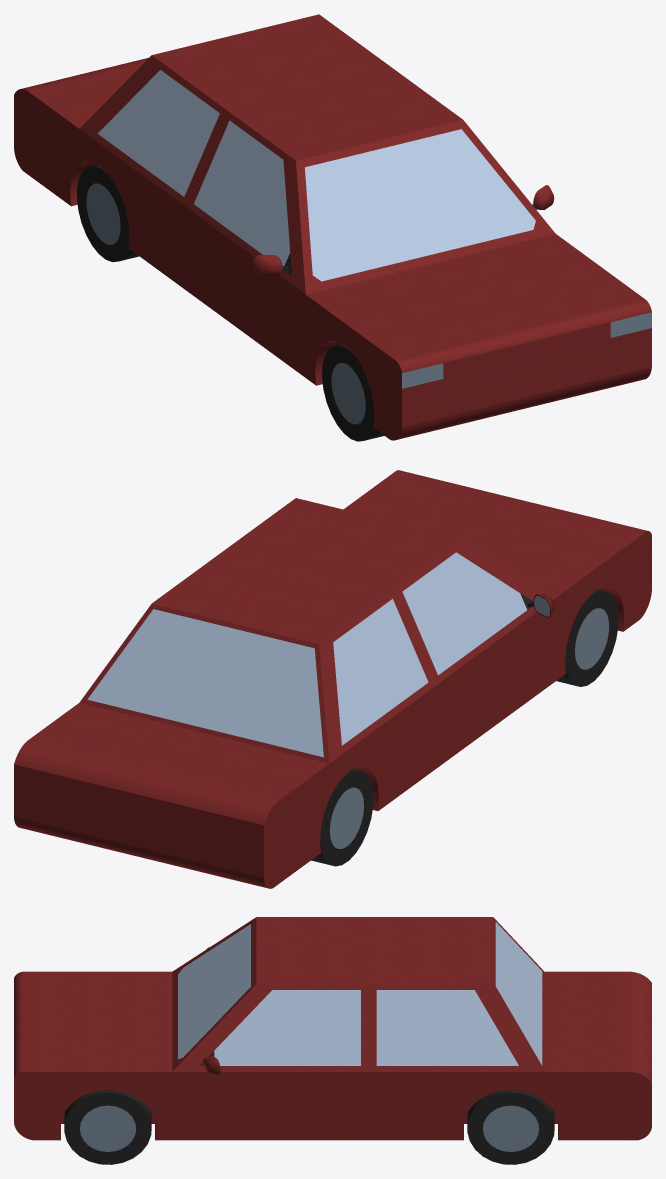
File: red_car.dae
3 views of the same model, one above another, from view 1: azimuth 30°, elevation 25°; view 2: azimuth 150°, elevation 25°; view 3: azimuth 270°, elevation 25° (orthographic). The views are drawn at different scales.
Parts seen in each view (by area): view 1: SketchUp (×10); view 2: SketchUp (×8); view 3: SketchUp (×9).
Boxes of the visible parts, box(x1,y1,x2,y2) form: SketchUp (×10): box(14, 14, 651, 441); SketchUp (×8): box(14, 470, 651, 888); SketchUp (×9): box(14, 917, 651, 1164).
Size of the model in its own units: 71.26 by 160 by 45.82.
5 materials, 1 textured.
